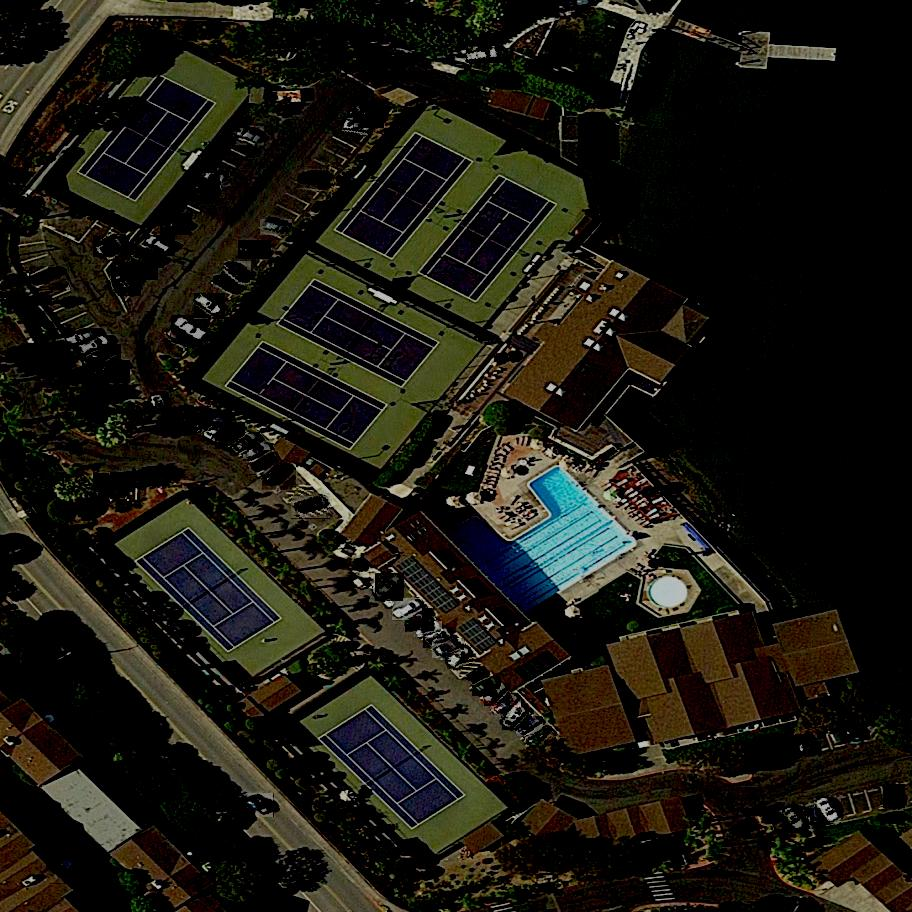small-vehicle: (83, 344, 121, 374), (262, 460, 296, 493), (30, 266, 70, 294), (172, 314, 208, 345), (187, 174, 220, 206), (91, 358, 130, 385), (215, 420, 246, 453), (790, 729, 819, 764), (291, 495, 331, 520), (353, 99, 384, 131), (112, 266, 142, 299), (249, 450, 283, 478), (244, 790, 275, 820), (375, 572, 404, 604), (194, 292, 225, 321), (214, 271, 246, 299), (491, 693, 522, 720), (164, 327, 196, 353), (131, 245, 164, 270), (49, 858, 77, 887), (406, 607, 436, 634), (93, 235, 128, 258), (525, 724, 553, 752), (814, 797, 841, 826), (782, 805, 809, 834), (392, 597, 423, 622), (758, 737, 783, 768), (120, 260, 158, 280), (503, 703, 530, 731), (224, 259, 251, 287), (230, 432, 260, 457), (161, 212, 192, 236), (238, 239, 271, 261), (423, 627, 453, 650), (432, 638, 463, 660), (233, 125, 264, 147), (66, 329, 100, 349), (484, 682, 510, 708), (204, 414, 228, 442), (447, 645, 472, 671), (146, 234, 174, 257), (517, 715, 543, 739), (80, 336, 113, 354), (110, 472, 132, 499), (243, 443, 274, 462), (473, 676, 501, 697), (884, 783, 905, 811), (192, 406, 212, 434), (298, 174, 333, 190), (343, 117, 375, 134), (466, 47, 500, 63), (197, 171, 230, 187), (261, 219, 292, 236), (746, 741, 763, 770), (415, 621, 443, 638), (94, 474, 110, 499)
